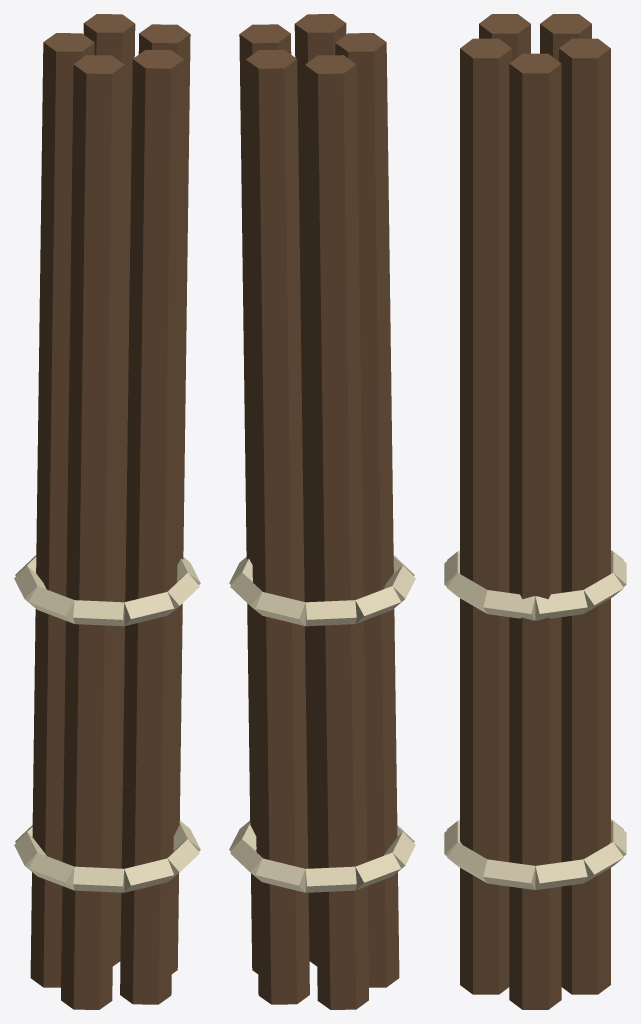
Rendered from blender_incense_1.glb.
3 renders of one model, left to right at view 1: azimuth 30°, elevation 25°; view 2: azimuth 150°, elevation 25°; view 3: azimuth 270°, elevation 25°, orthographic.
Visible parts, largest first — view 1: blender_incense_1; view 2: blender_incense_1; view 3: blender_incense_1.
Part boxes in pixels (x1=…): blender_incense_1: x1=14, y1=14, x2=200, y2=1009; blender_incense_1: x1=229, y1=14, x2=415, y2=1009; blender_incense_1: x1=444, y1=14, x2=626, y2=1009.
Size of the model in its own units: 0.0254 by 0.1401 by 0.0245.
Materials: 1 (1 with a texture image).
